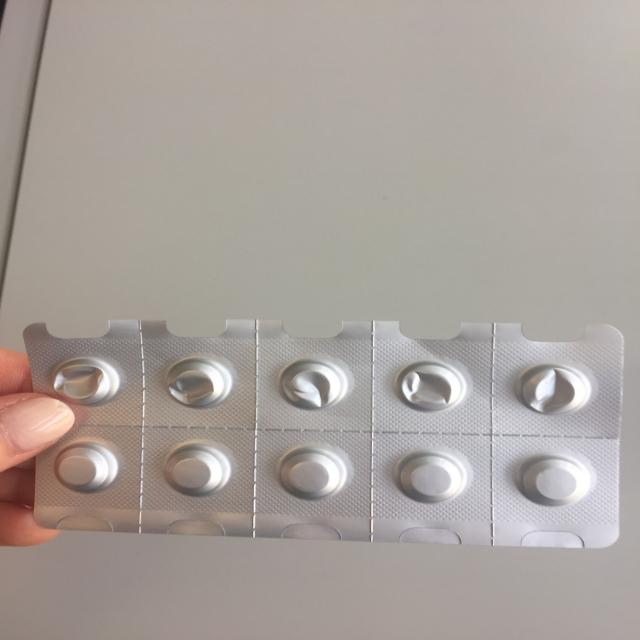Empty: (270, 356, 357, 412), (388, 358, 473, 415), (514, 358, 593, 418), (40, 356, 130, 407), (160, 353, 239, 410)
Pill: (507, 450, 596, 514), (272, 442, 352, 503), (387, 444, 464, 507), (154, 441, 238, 498), (46, 438, 124, 496)
